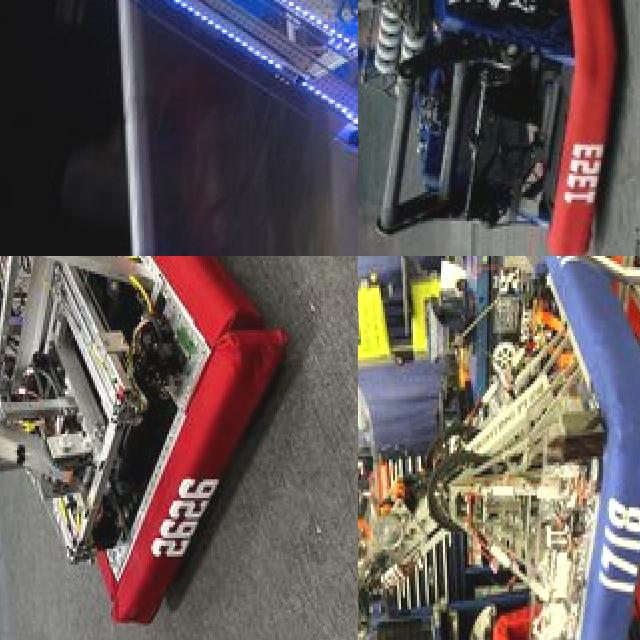FRC-Robots: (0, 256, 300, 640), (358, 256, 640, 640), (0, 0, 358, 201), (358, 0, 639, 256)
